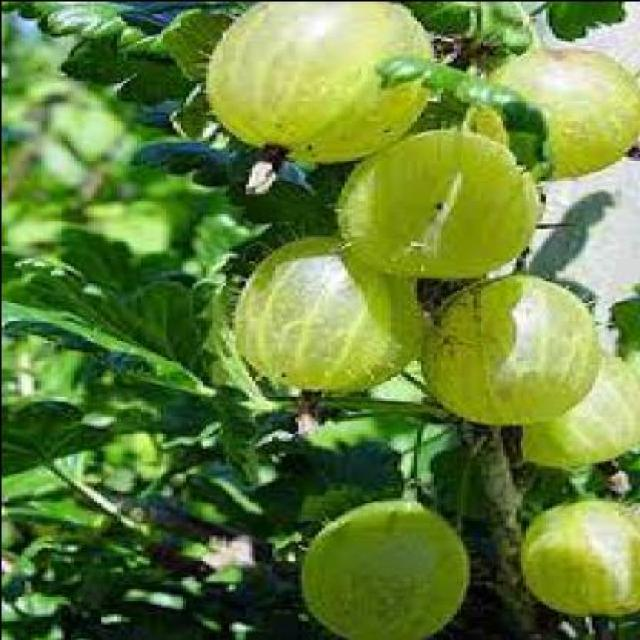BIODEGRADABLE: (2, 0, 640, 640), (206, 4, 432, 162), (338, 131, 536, 278), (239, 238, 425, 391), (424, 275, 599, 424), (492, 49, 640, 177), (411, 65, 550, 178), (522, 352, 640, 468), (406, 3, 532, 73), (552, 2, 622, 39), (612, 298, 640, 356)
